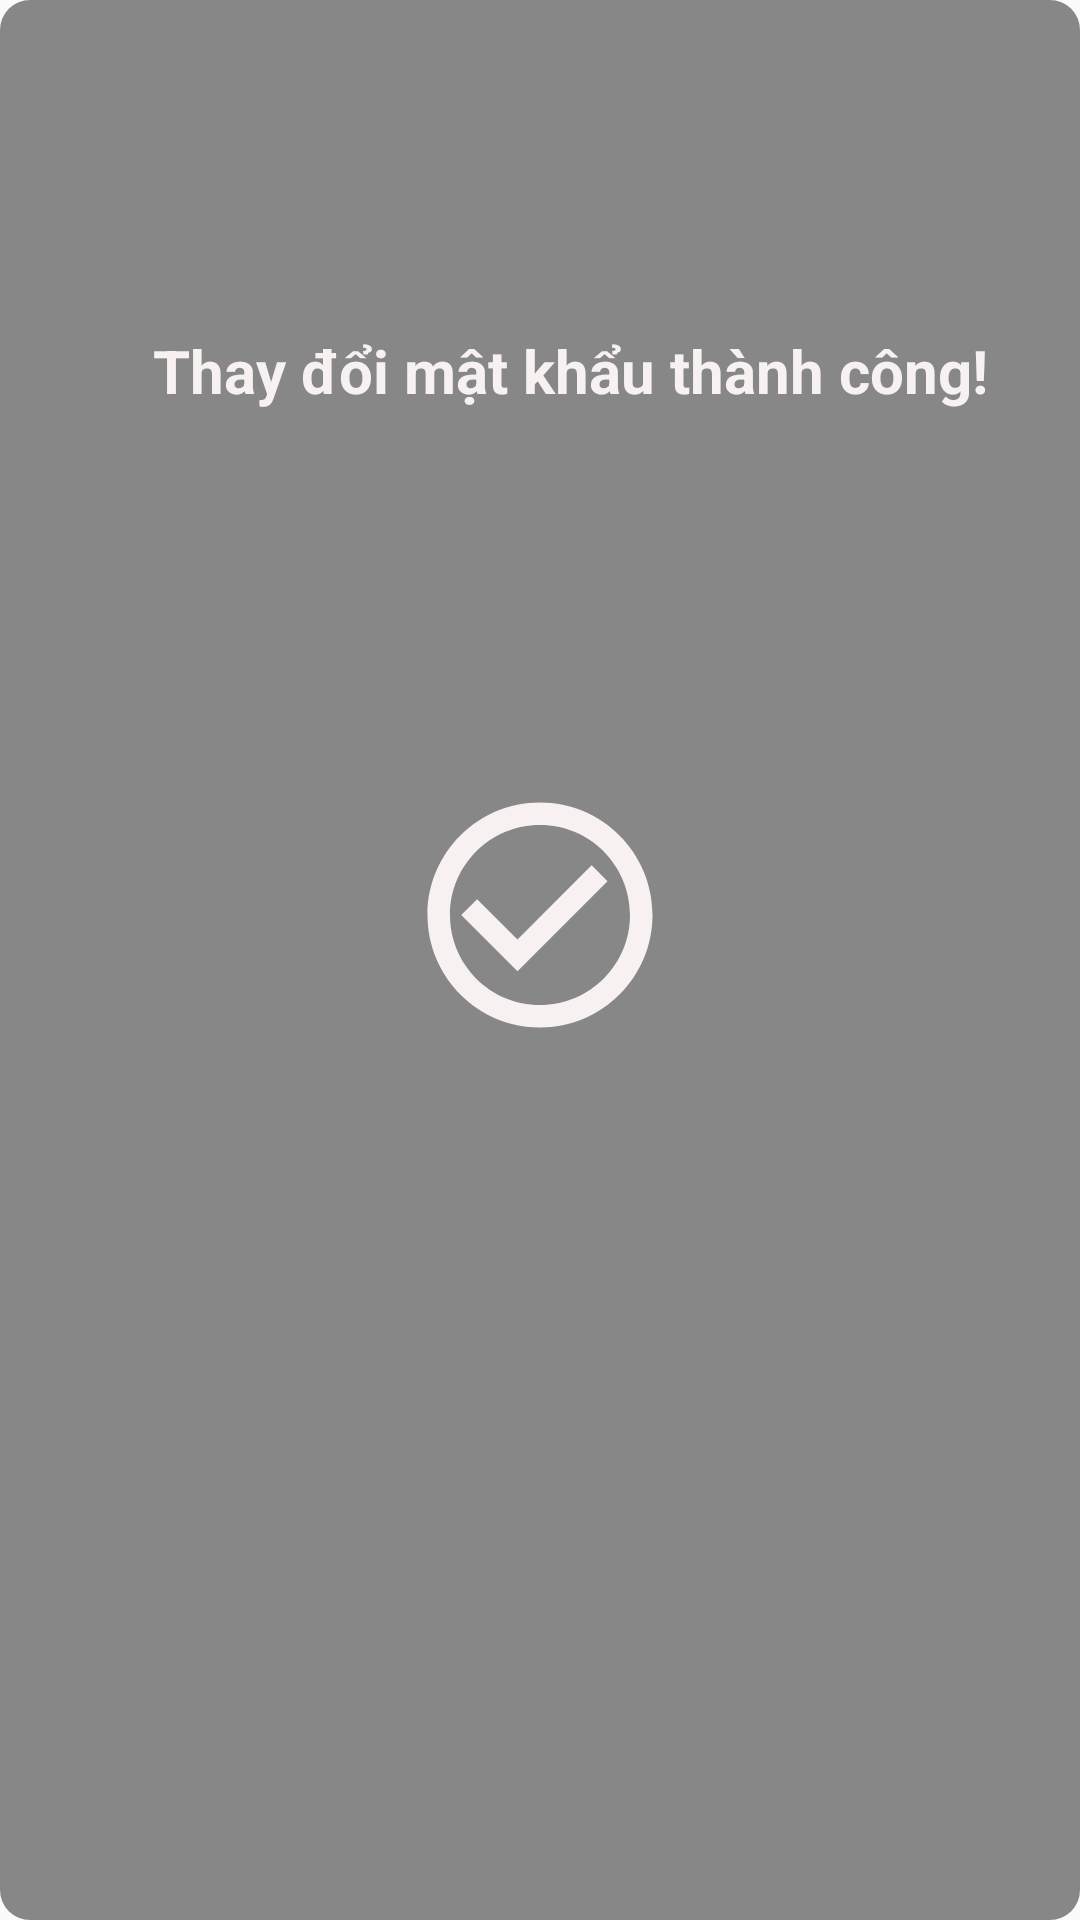

Named icons in this screenshot (1080×1920) and their bounding boxes, Rect(x1, y1, x2, y2):
check circle: Rect(427, 802, 653, 1028)
